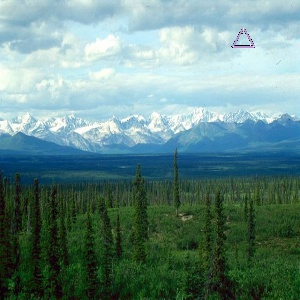triangle: (229, 26, 256, 50)
